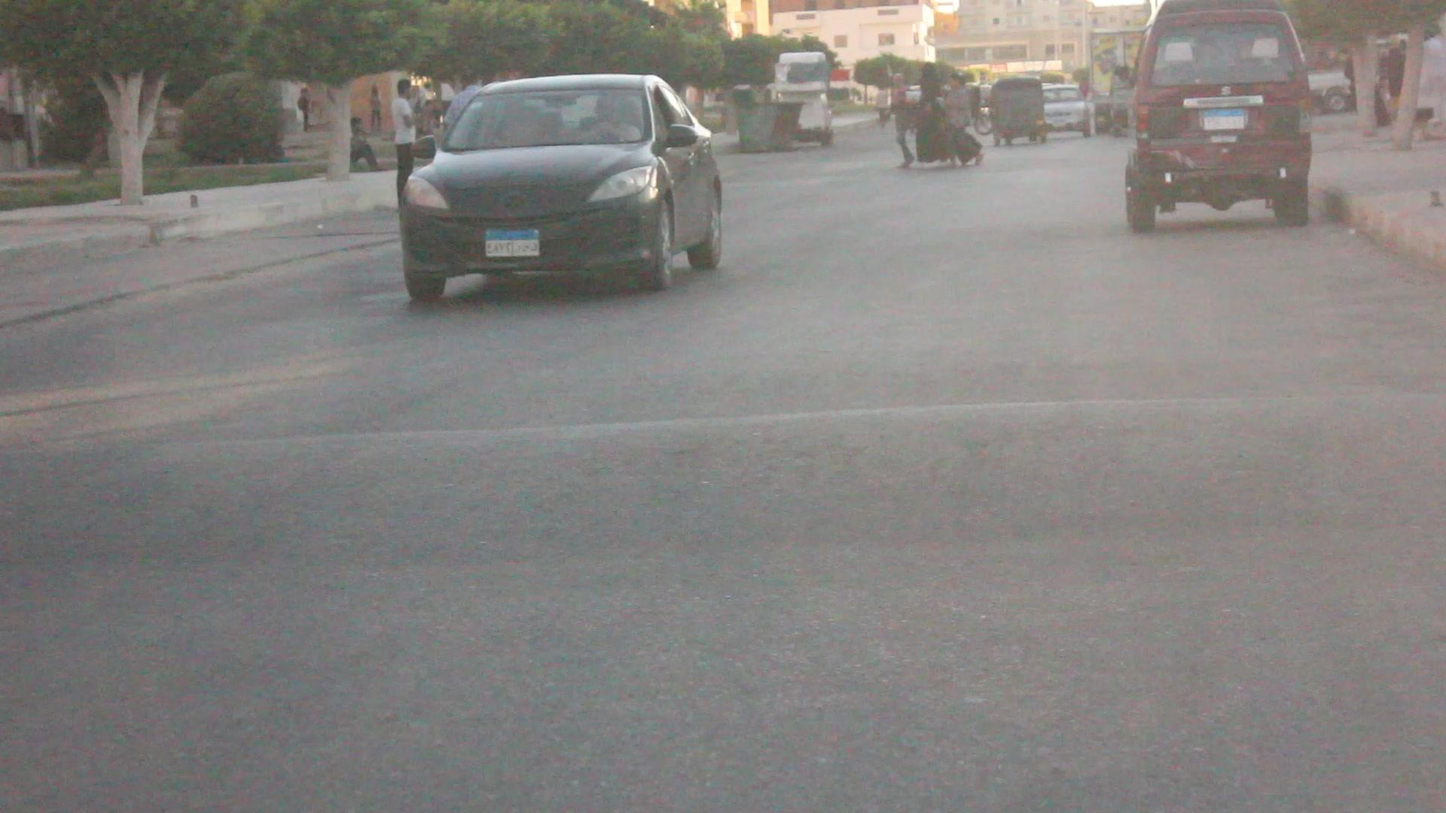Bump: (0, 390, 1446, 546)
